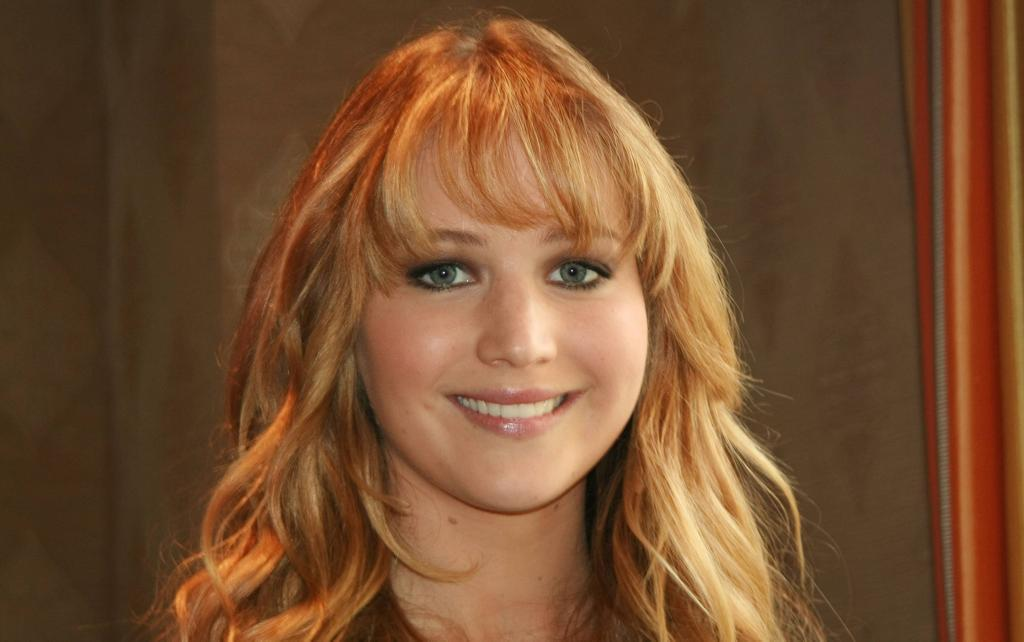face: (350, 158, 648, 516)
